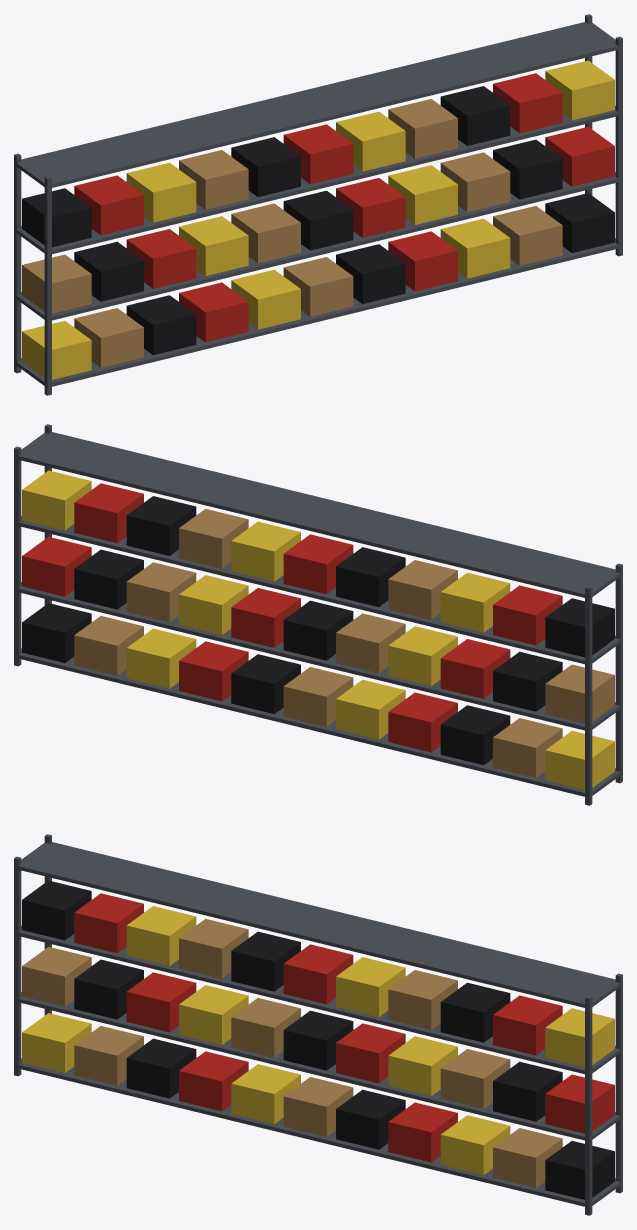
Rendered from parts shelving.glb.
The picture shows the model from 3 angles, top to bottom: view 1: azimuth 30°, elevation 25°; view 2: azimuth 150°, elevation 25°; view 3: azimuth 330°, elevation 25°; orthographic projection.
Parts seen in each view (by area): view 1: parts shelving; view 2: parts shelving; view 3: parts shelving.
Part boxes in pixels (<box>): parts shelving: <box>14,14,622,395</box>; parts shelving: <box>14,424,622,805</box>; parts shelving: <box>14,834,622,1215</box>.
Size of the model in its own units: 5 by 1.8 by 0.5.
